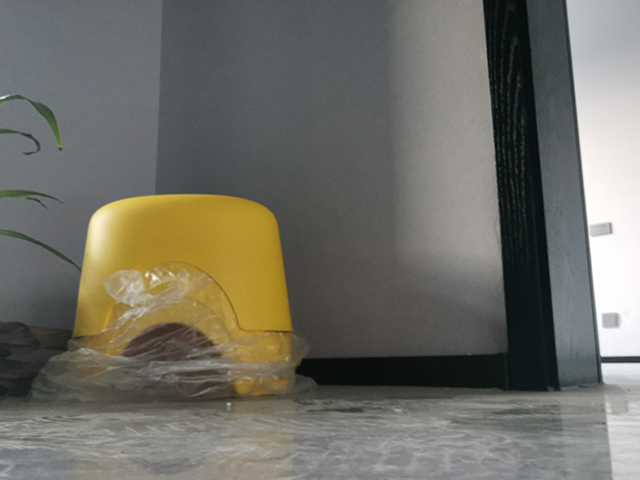stool: (68, 192, 297, 399)
